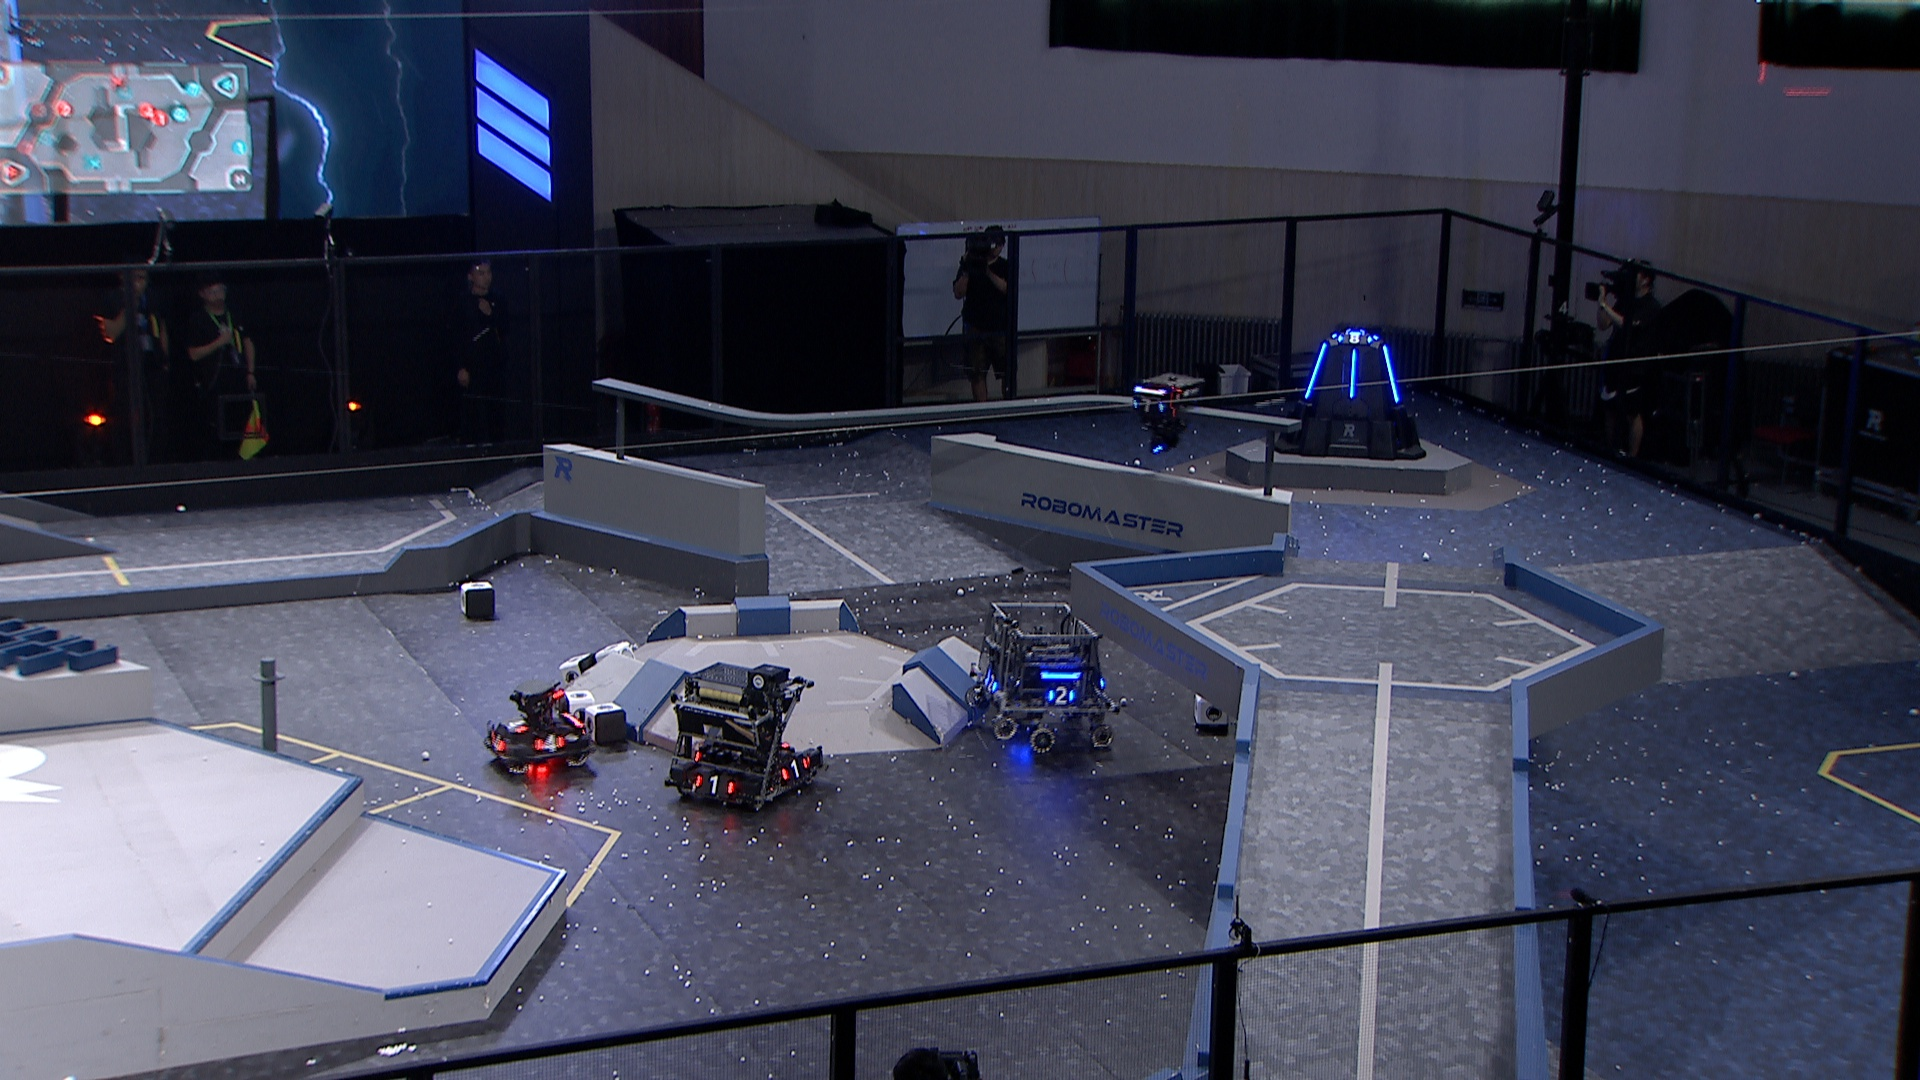armor: (1302, 342, 1328, 401), (1381, 342, 1400, 405), (694, 771, 736, 796), (1044, 684, 1077, 709), (1129, 396, 1167, 417), (531, 735, 567, 754), (779, 756, 807, 781), (1348, 348, 1361, 400), (1335, 332, 1375, 347), (485, 732, 510, 754), (982, 671, 1001, 695), (506, 717, 529, 735)
base: (1273, 328, 1427, 462)
car: (665, 661, 823, 811), (968, 603, 1120, 752), (483, 680, 595, 775)
watcher: (1126, 372, 1207, 454)
